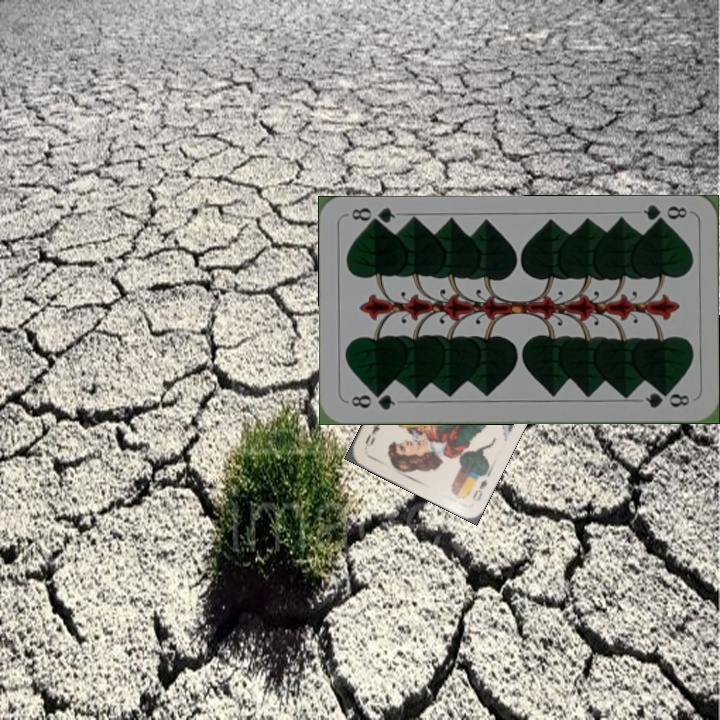EO: (468, 467, 493, 505)
G8: (639, 202, 689, 229), (344, 389, 398, 413)
